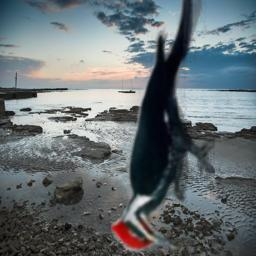Woodpecker: (111, 0, 215, 256)
